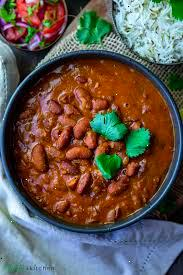rajma: (1, 61, 183, 239)
